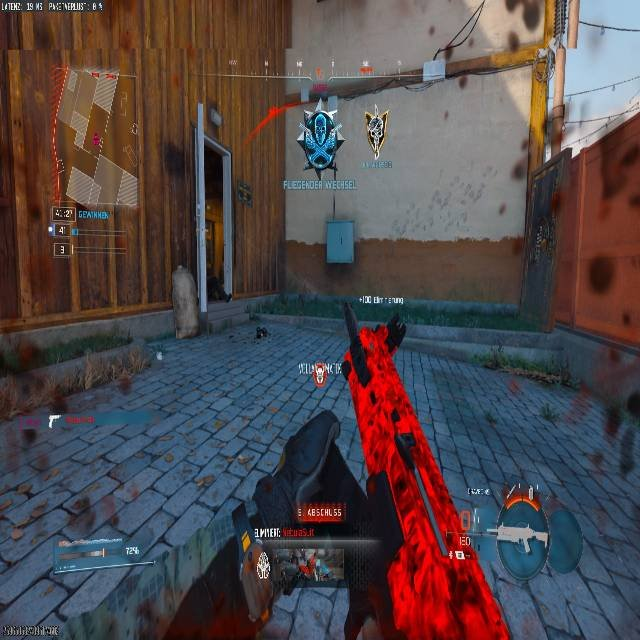player: (303, 103, 344, 181)
